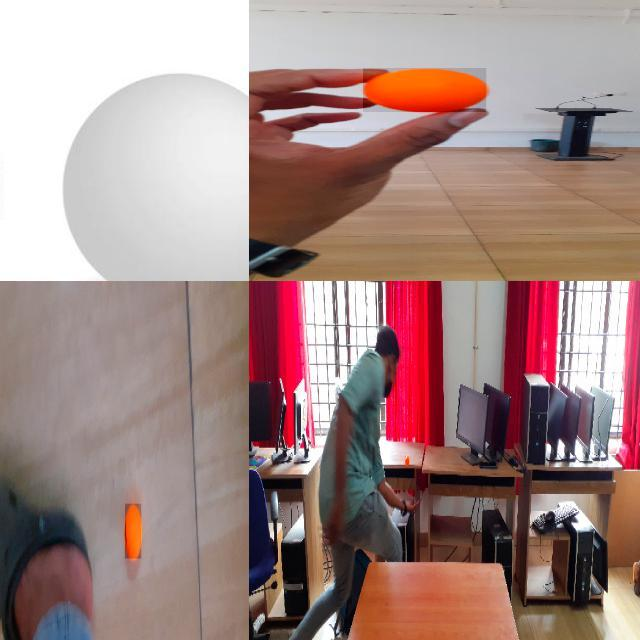ping-pong-ball: (363, 68, 488, 112), (125, 504, 142, 560), (404, 456, 410, 466)
